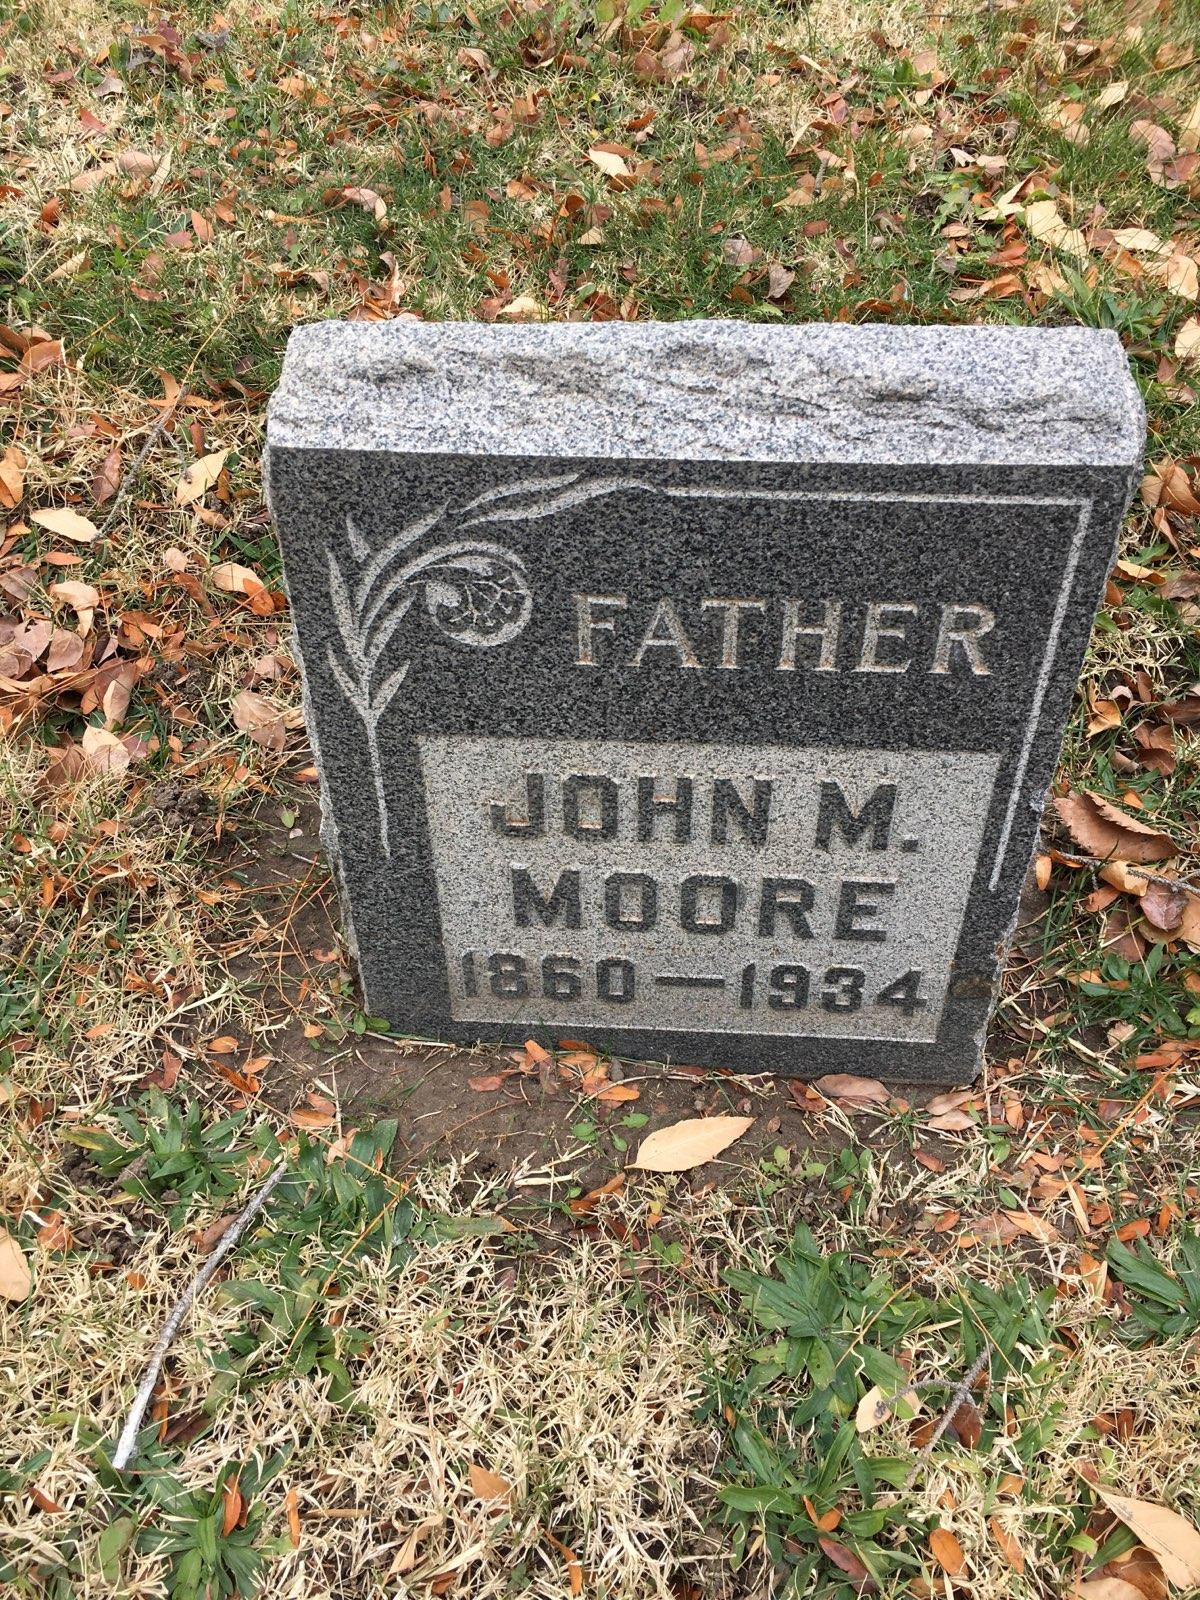upright: (256, 310, 1143, 1087)
